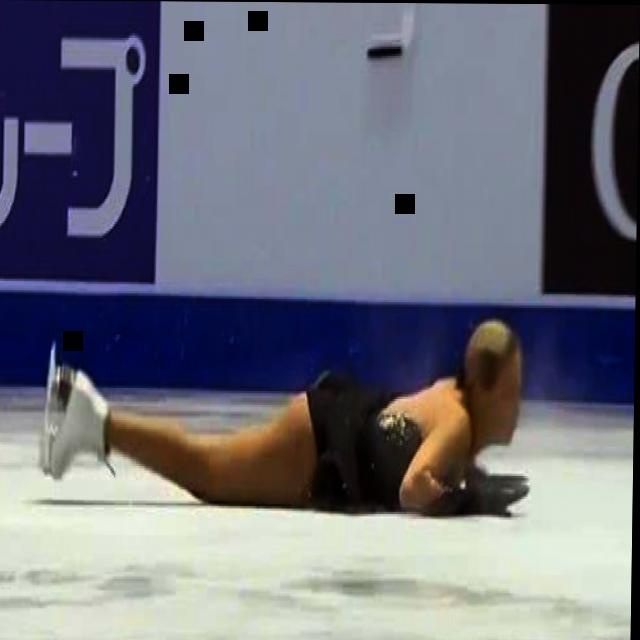Fall-Detected: (33, 304, 533, 528)
